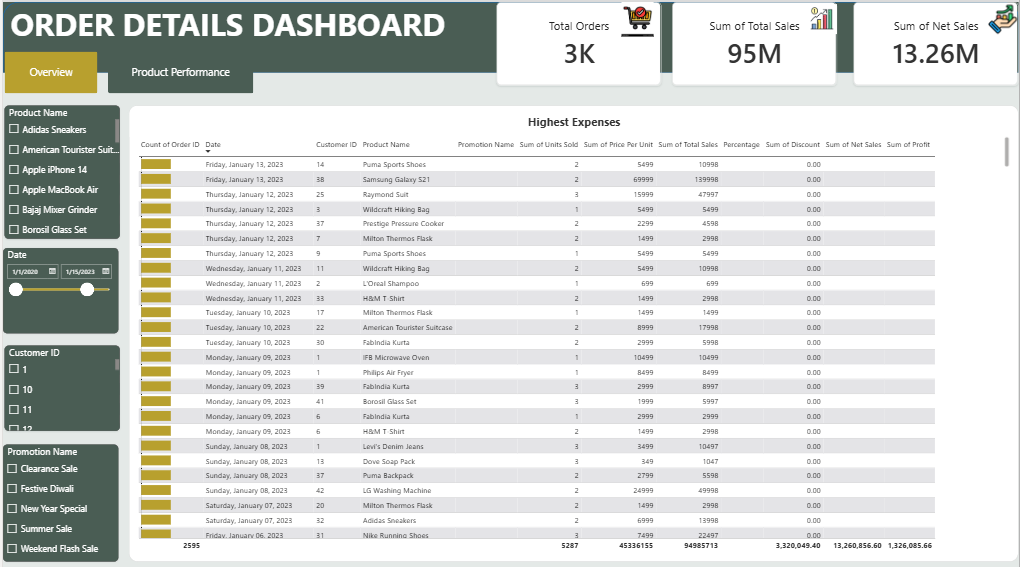

What the dashboard file says about the page in this screenshot:
{"tool":"powerbi","page":{"name":"Order Details","canvas":[1920,1080],"ordinal":2},"visuals":[{"type":"shape","box":[0,0,1919.1,133.2],"z":0},{"type":"cardVisual","fields":{"Data":["Fact Table.Total Orders"]},"box":[932.6,0,311.8,158.7],"z":1000},{"type":"cardVisual","fields":{"Data":["Sum(Fact Table.Total Sales)"]},"box":[1264.3,0,311.8,158.7],"z":2000},{"type":"cardVisual","fields":{"Data":["Sum(Fact Table.Net Sales)"]},"box":[1607.3,0,311.8,158.7],"z":3000},{"type":"slicer","fields":{"Values":["Dim Product.Product Name"]},"box":[2.8,195.6,218.3,252.3],"z":4000},{"type":"slicer","fields":{"Values":["Calendar.Date"]},"box":[0,464.9,218.3,161.6],"z":5000},{"type":"slicer","fields":{"Values":["Dim Customers.Customer ID"]},"box":[2.8,649.1,218.3,161.6],"z":6000},{"type":"slicer","fields":{"Values":["Dim Promotion.Promotion Name"]},"box":[0,836.2,218.3,221.1],"z":7000},{"type":"tableEx","title":"Highest Expenses","fields":{"Values":["CountNonNull(Fact Table.Order ID)","Fact Table.Date (dd/mm/yyyy).Variation.Date Hierarchy.Year","Dim Customers.Customer ID","Dim Product.Product Name","Dim Promotion.Promotion Name","Sum(Fact Table.Units Sold)","Sum(Fact Table.Price Per Unit)","Sum(Fact Table.Total Sales)","Dim Promotion.Percentage","Sum(Fact Table.Discount)","Sum(Fact Table.Net Sales)","Sum(Fact Table.Profit)"]},"box":[238.1,195.6,1681,861.7],"z":8000},{"type":"textbox","box":[14.2,0,918.4,79.4],"z":9000},{"type":"actionButton","box":[2.8,93.5,175.7,79.4],"z":10000},{"type":"actionButton","box":[198.4,93.5,275,79.4],"z":11000},{"type":"image","box":[1048.8,0,300.5,65.2],"z":11001},{"type":"image","box":[1859.5,0,59.5,65.2],"z":11002},{"type":"image","box":[1519.4,0,56.7,65.2],"z":11003}]}

Visuals, with their boxes in screenshot pixels (x1, y1, x2, y2), scaled from the page's 1920x1080 canvas onto the 1020x567 screenshot:
shape: locate(0, 0, 1019, 70)
cardVisual - Fact Table.Total Orders: locate(495, 0, 661, 83)
cardVisual - Sum(Fact Table.Total Sales): locate(672, 0, 837, 83)
cardVisual - Sum(Fact Table.Net Sales): locate(854, 0, 1019, 83)
slicer - Dim Product.Product Name: locate(1, 103, 117, 235)
slicer - Calendar.Date: locate(0, 244, 116, 329)
slicer - Dim Customers.Customer ID: locate(1, 341, 117, 426)
slicer - Dim Promotion.Promotion Name: locate(0, 439, 116, 555)
"Highest Expenses" tableEx: locate(126, 103, 1019, 555)
textbox: locate(8, 0, 495, 42)
actionButton: locate(1, 49, 95, 91)
actionButton: locate(105, 49, 251, 91)
image: locate(557, 0, 717, 34)
image: locate(988, 0, 1019, 34)
image: locate(807, 0, 837, 34)
